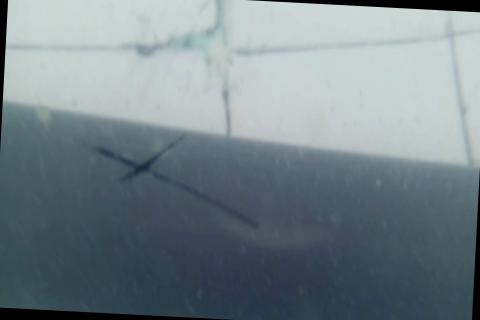keretakan: (79, 125, 266, 234)
